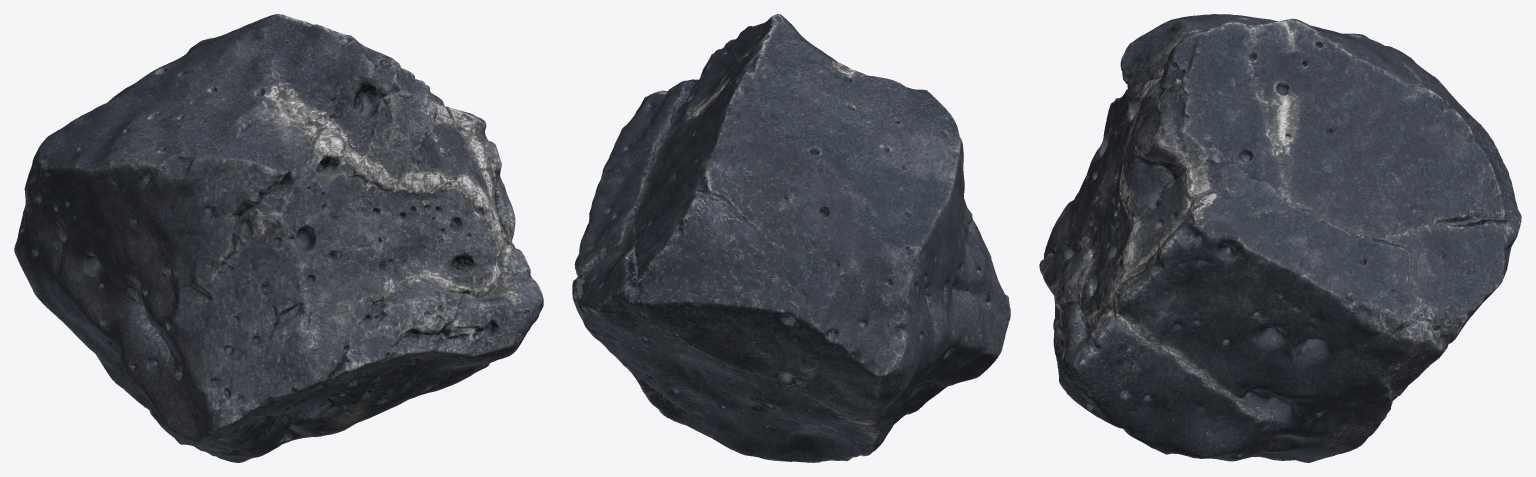
Rendered from prop-meteorite.glb.
The picture shows the model from 3 angles, left to right: view 1: azimuth 30°, elevation 25°; view 2: azimuth 150°, elevation 25°; view 3: azimuth 270°, elevation 25°; orthographic projection. The views are drawn at different scales.
Bounding box in the file's own units: 1.75 × 1.9 × 1.85.
Materials: 1 (1 with a texture image).
